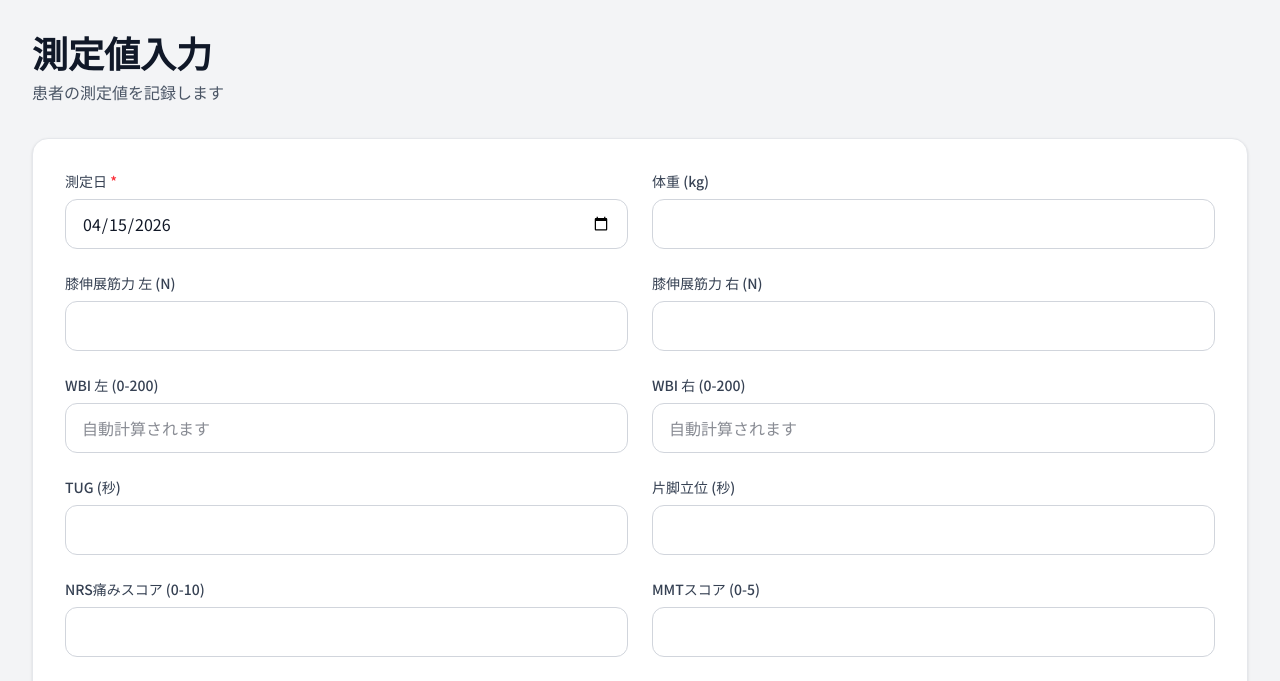
Scenario: S-05 MeasurementInput › form submission › should show error message on submission failure
Type "65.5" into the number field labelled "体重 (kg)". click: (934, 224)
box: [652, 199, 1215, 249]
(page scrolled)
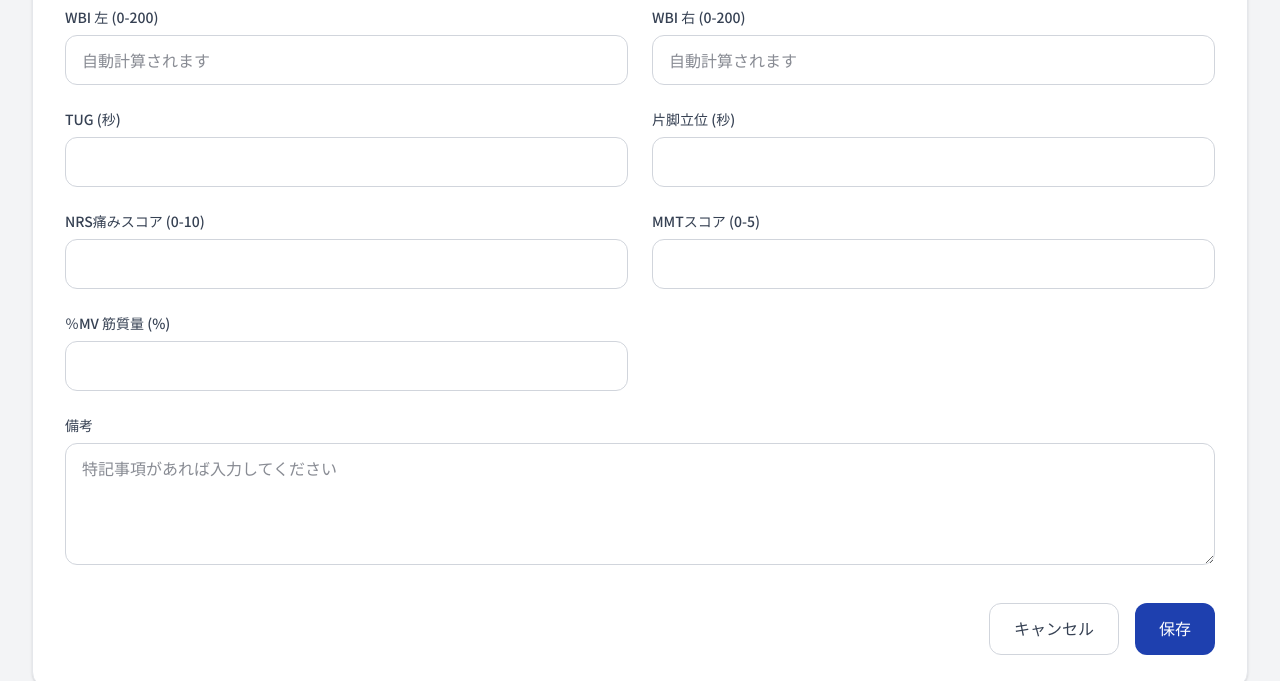
Click the button "保存". click: click(1175, 629)
box: [1135, 603, 1215, 655]
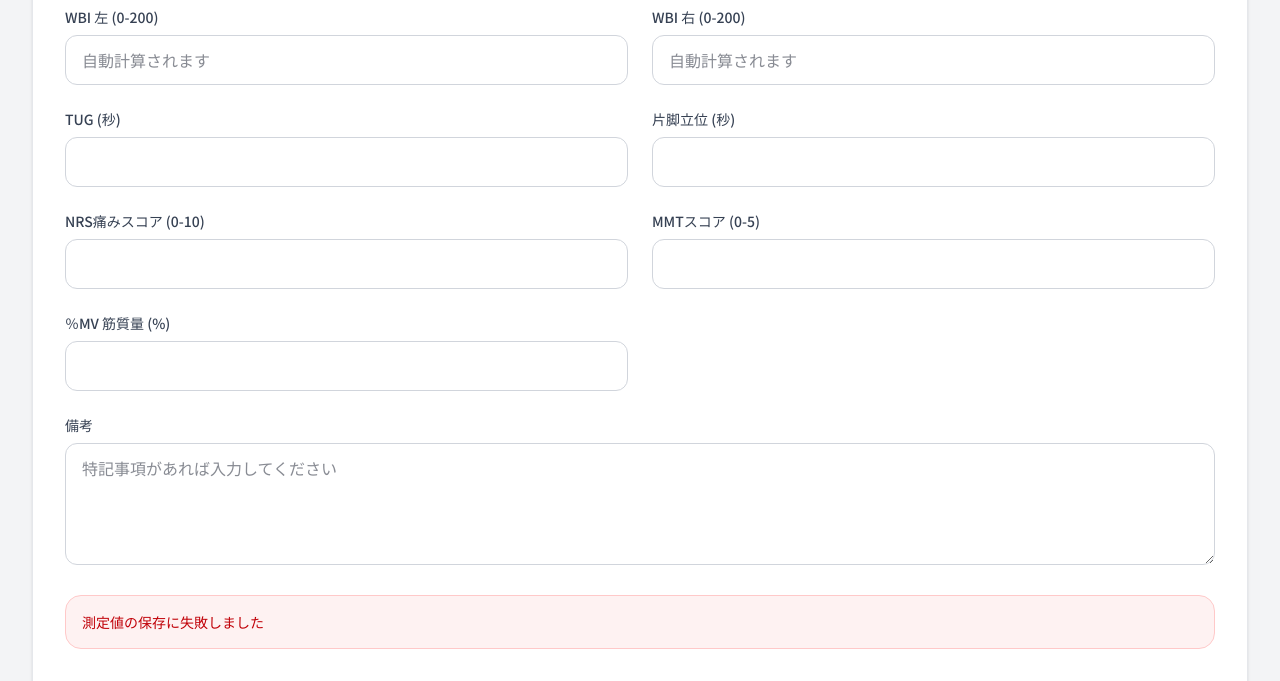
Expected: the text "測定値の保存に失敗しました" is shown, [82, 612, 264, 632]
